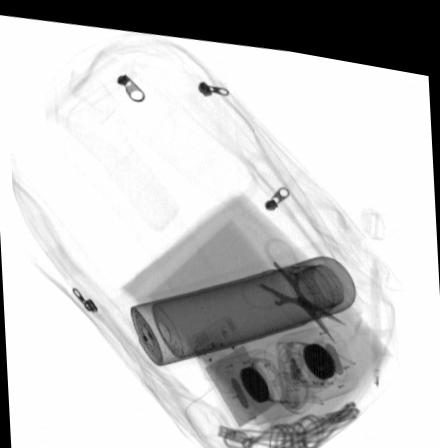Powerbank: (184, 309, 280, 425)
Scissors: (238, 226, 347, 335)
